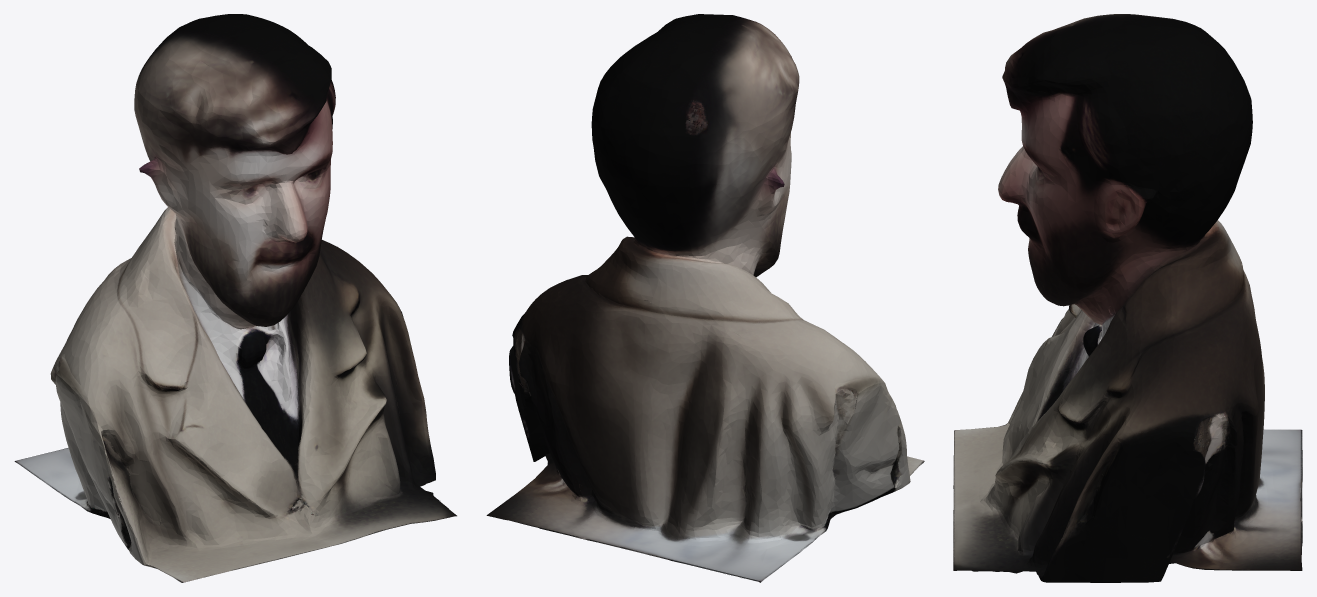
The model's file is lawrence.glb.
The picture shows the model from 3 angles, left to right: view 1: azimuth 30°, elevation 25°; view 2: azimuth 150°, elevation 25°; view 3: azimuth 270°, elevation 25°; orthographic projection. The views are drawn at different scales.
Parts seen in each view (by area): view 1: world; view 2: world; view 3: world.
Part boxes in pixels (x1=…): world: x1=14, y1=14, x2=456, y2=582; world: x1=486, y1=14, x2=924, y2=582; world: x1=953, y1=14, x2=1302, y2=582.
Size of the model in its own units: 0.7721 by 1 by 0.6653.
1 material, 1 textured.
